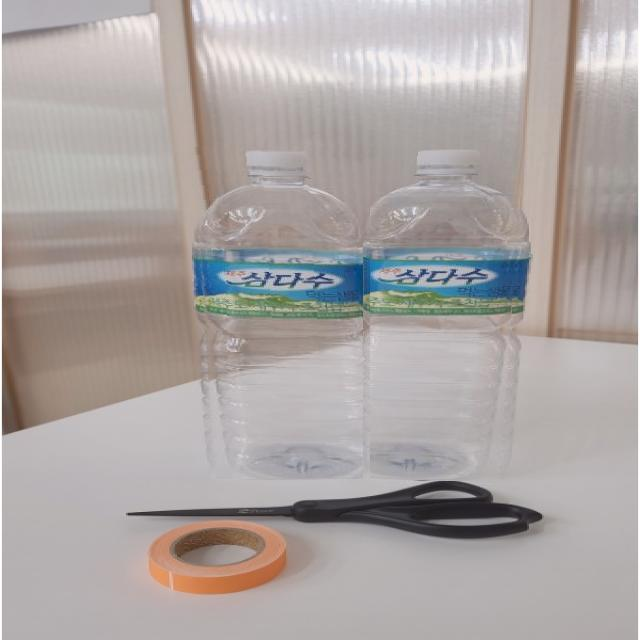plastic bottle: (194, 147, 364, 479), (370, 149, 524, 481)
